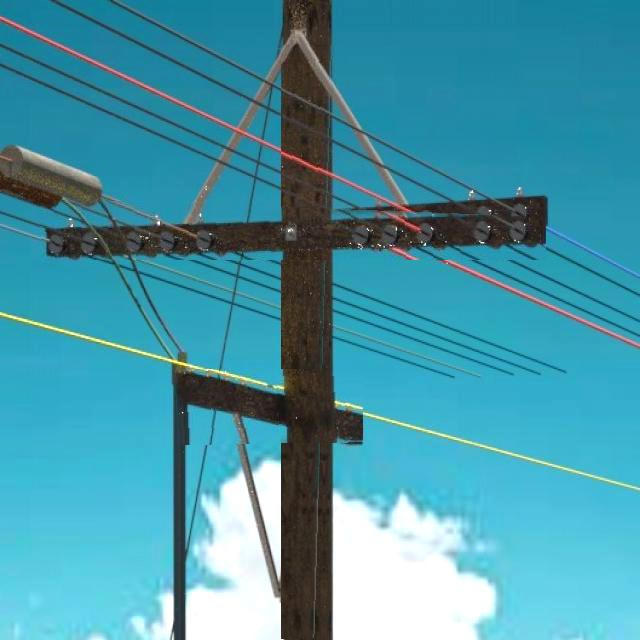crossarm: (42, 212, 546, 260), (175, 370, 363, 444)
pole: (281, 45, 330, 640)
